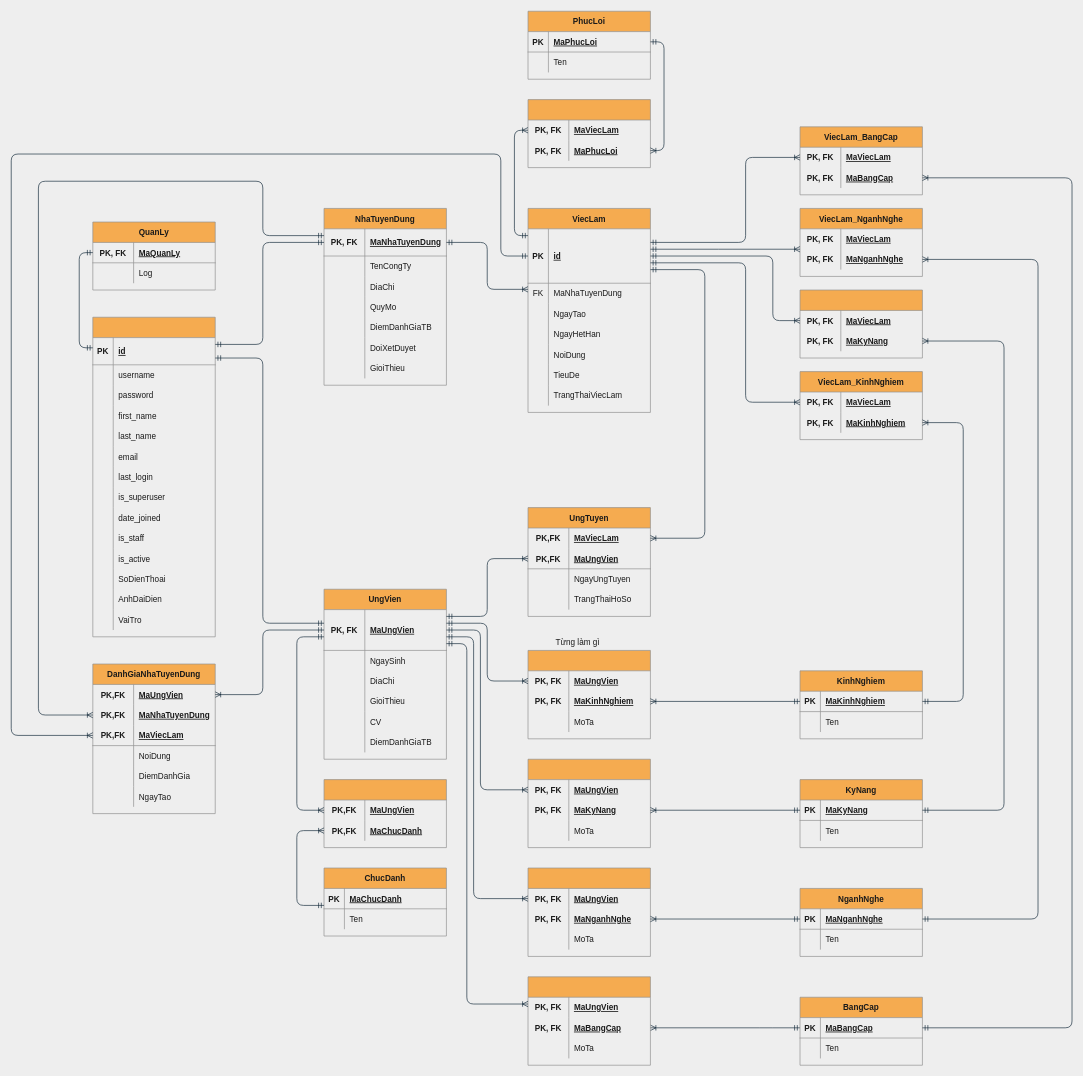
Some shapes in this 1083 by 1076 pixel diagram are drawn without their labels. The box of each missing label's shape, as (x1, y1, x2, y2) in pixels:
NguoiDung: (92, 317, 215, 637)
UngVien_BangCap: (527, 976, 650, 1065)
UngVien_ChucDanh: (323, 779, 446, 848)
UngVien_KinhNghiem: (527, 650, 650, 739)
UngVien_KyNang: (527, 759, 650, 848)
UngVien_NganhNghe: (527, 867, 650, 956)
ViecLam_KyNang: (799, 289, 922, 358)
ViecLam_PhucLoi: (527, 99, 650, 168)
